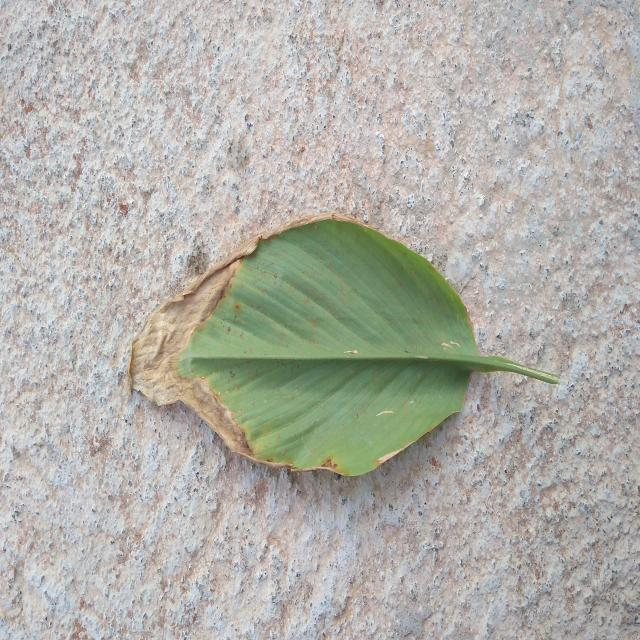leaf blotch: (126, 216, 559, 476)
